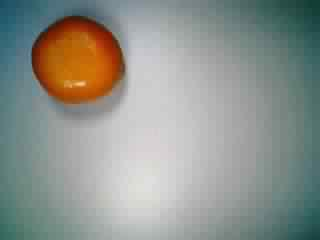orange: (30, 12, 128, 112)
